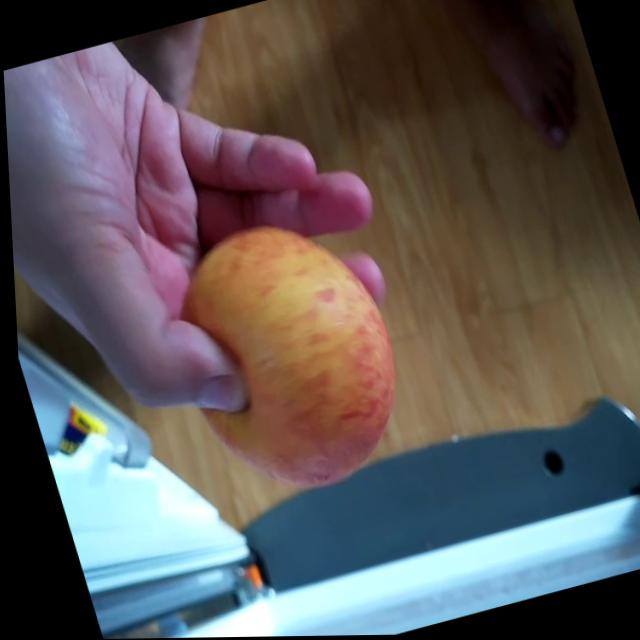apple: (146, 205, 423, 516)
